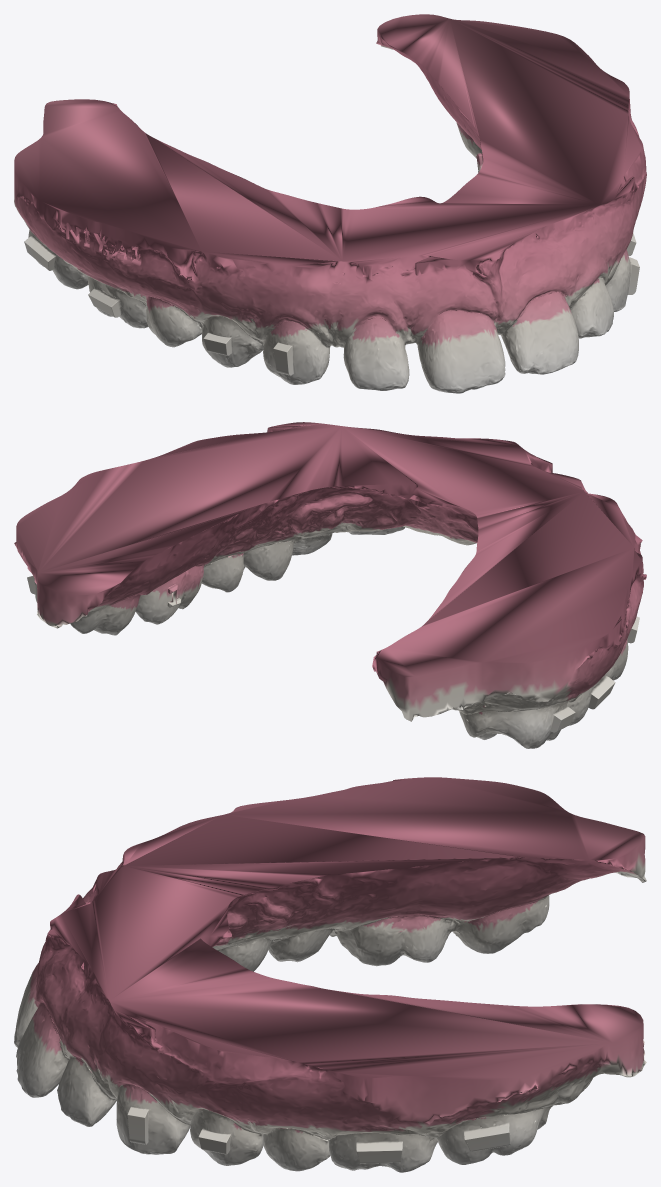
Rendered from Niya Priority Upper jaw - 01 - Model.glb.
3 renders of one model, top to bottom at view 1: azimuth 30°, elevation 25°; view 2: azimuth 150°, elevation 25°; view 3: azimuth 270°, elevation 25°, orthographic. The views are drawn at different scales.
Visible parts, largest first — view 1: Niya Priority Upper jaw - 01 - Model; view 2: Niya Priority Upper jaw - 01 - Model; view 3: Niya Priority Upper jaw - 01 - Model.
Boxes of the visible parts, x1,y1,x2,y2 form: Niya Priority Upper jaw - 01 - Model: (14, 14, 646, 393); Niya Priority Upper jaw - 01 - Model: (14, 422, 646, 748); Niya Priority Upper jaw - 01 - Model: (14, 777, 646, 1172).
Size of the model in its own units: 66.36 by 13.69 by 58.58.
